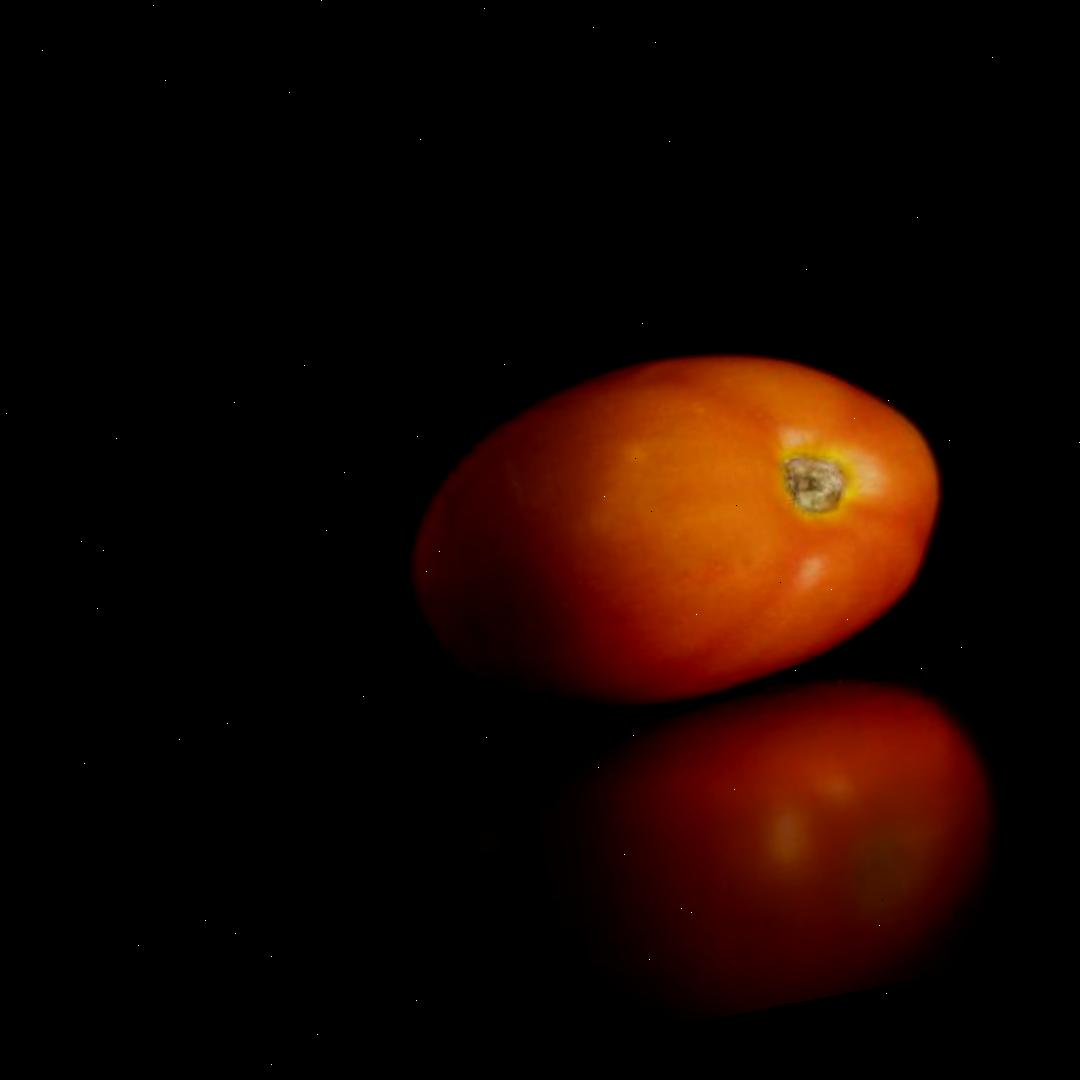matang: (385, 306, 962, 755)
